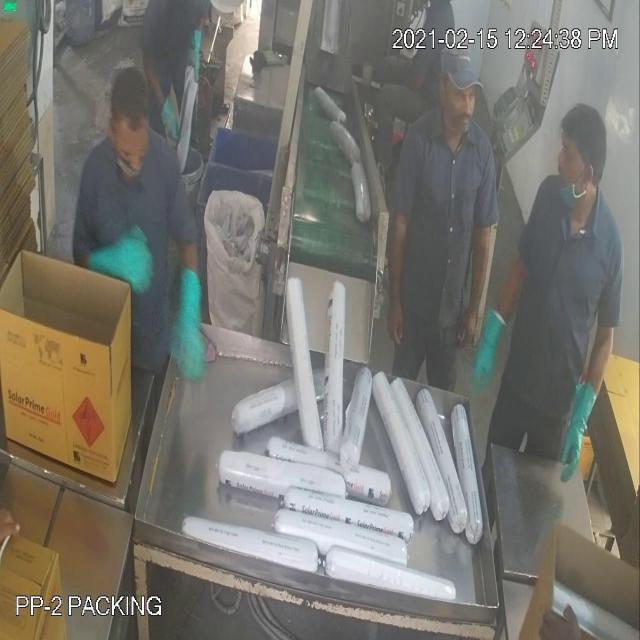Gloves: (28, 70, 580, 436)
